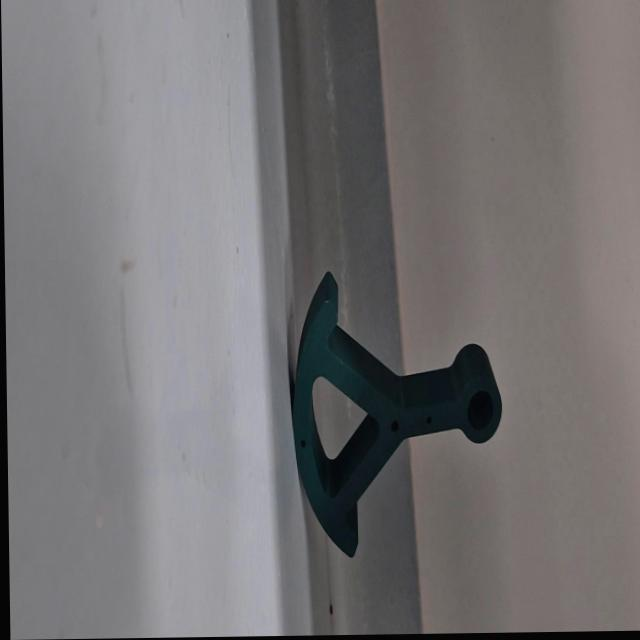haptic: (287, 266, 505, 561)
